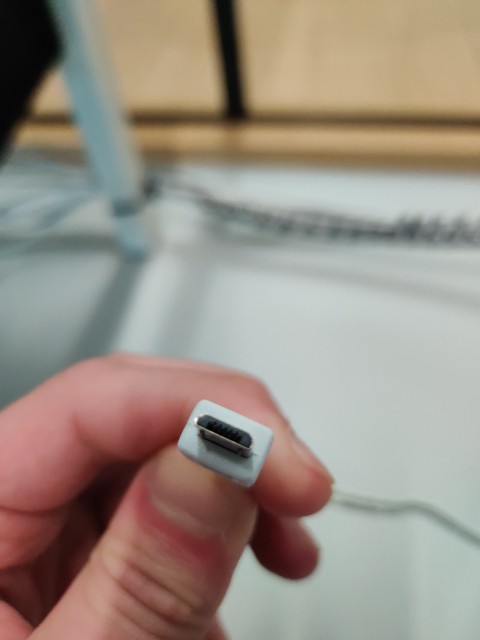Micro-USB: (192, 413, 255, 460)
